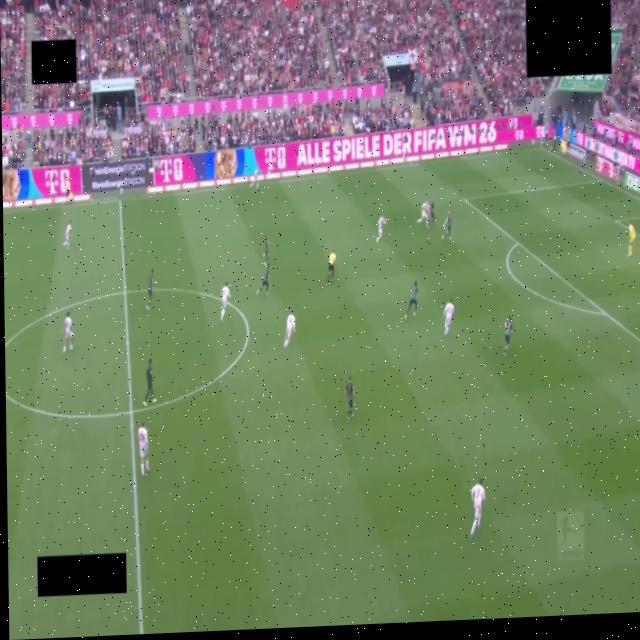player: (470, 479, 485, 538), (142, 358, 157, 406), (138, 422, 149, 475), (405, 282, 418, 318), (63, 311, 74, 352), (345, 376, 355, 421), (283, 312, 295, 347), (220, 281, 230, 320), (257, 264, 269, 294), (444, 299, 454, 335), (503, 317, 512, 355), (418, 201, 429, 228), (146, 269, 153, 310), (628, 221, 636, 256), (377, 215, 387, 242), (443, 211, 452, 239), (63, 221, 71, 249), (250, 169, 259, 188), (264, 234, 269, 264), (430, 202, 435, 223)
referee: (327, 250, 336, 281)
